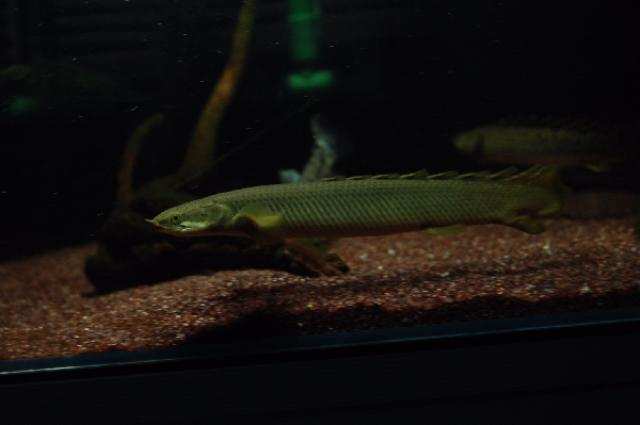Mulut: (137, 204, 175, 246)
Sirip Anal: (502, 206, 554, 230)
Sirip Dada: (222, 196, 298, 254)
Sirip Perut: (416, 212, 474, 250)
Sirip Punggung: (307, 155, 543, 194)
